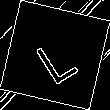L_NW: (28, 25, 82, 85)
